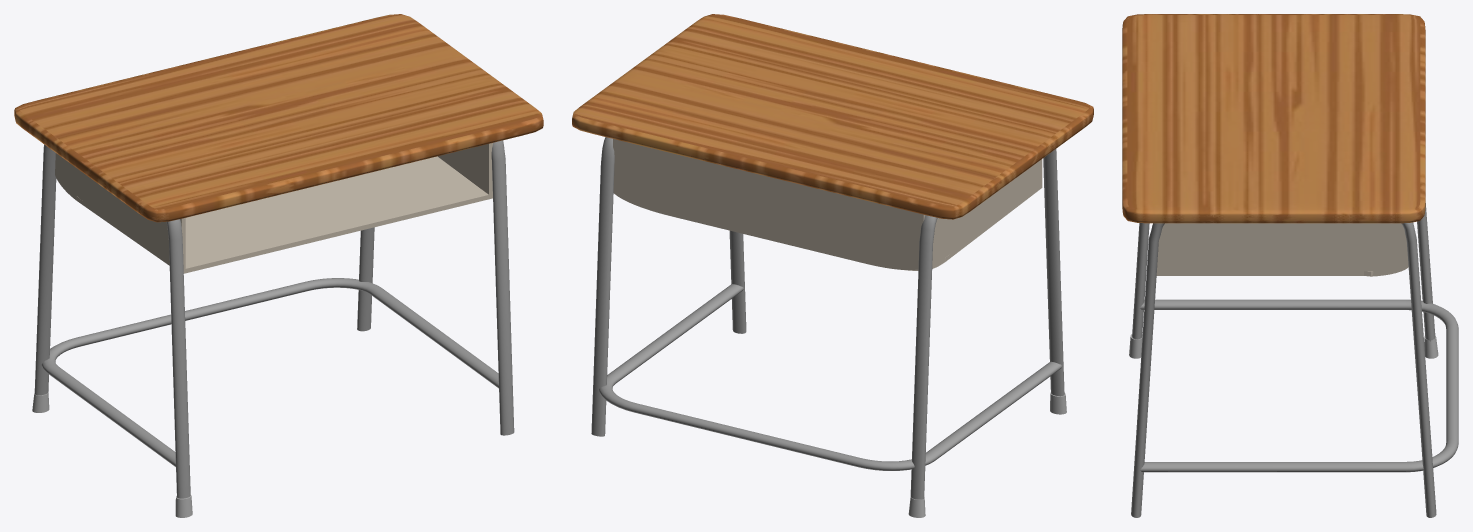
Rendered from desk_classroom.glb.
3 views of the same model, side by side, from view 1: azimuth 30°, elevation 25°; view 2: azimuth 150°, elevation 25°; view 3: azimuth 270°, elevation 25° (orthographic). The views are drawn at different scales.
Visible parts, largest first — view 1: 立方体.011, 立方体.010, 立方体, 立方体.009; view 2: 立方体.011, 立方体.010, 立方体, 立方体.009; view 3: 立方体.011, 立方体.010, 立方体, 立方体.009.
Boxes of the visible parts, <box> form: 立方体.011: <box>14,14,543,222</box>; 立方体.010: <box>55,143,492,273</box>; 立方体: <box>34,140,514,498</box>; 立方体.009: <box>41,278,499,466</box>; 立方体.011: <box>572,14,1093,219</box>; 立方体.010: <box>613,139,1042,270</box>; 立方体: <box>591,137,1064,499</box>; 立方体.009: <box>599,284,1062,470</box>; 立方体.011: <box>1122,14,1425,223</box>; 立方体.010: <box>1156,223,1408,276</box>; 立方体: <box>1131,203,1436,517</box>; 立方体.009: <box>1139,299,1458,472</box>.
Size of the model in its own units: 2.03 by 1.54 by 1.45.
4 materials, 1 textured.
